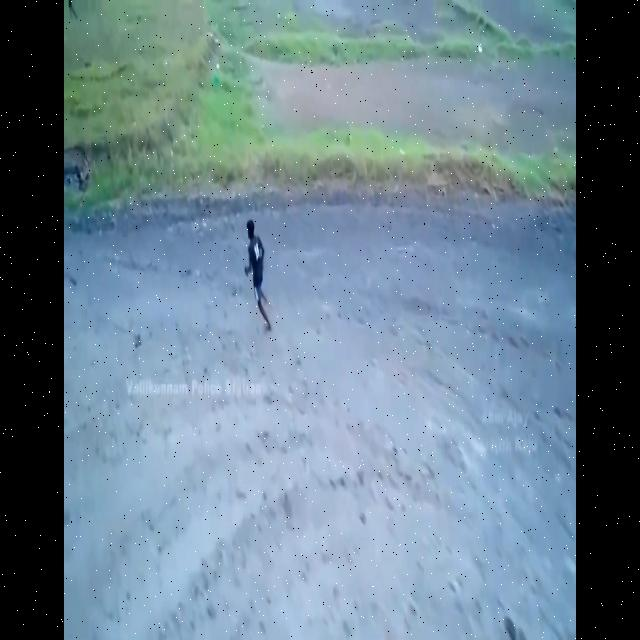humans: (240, 213, 276, 337)
